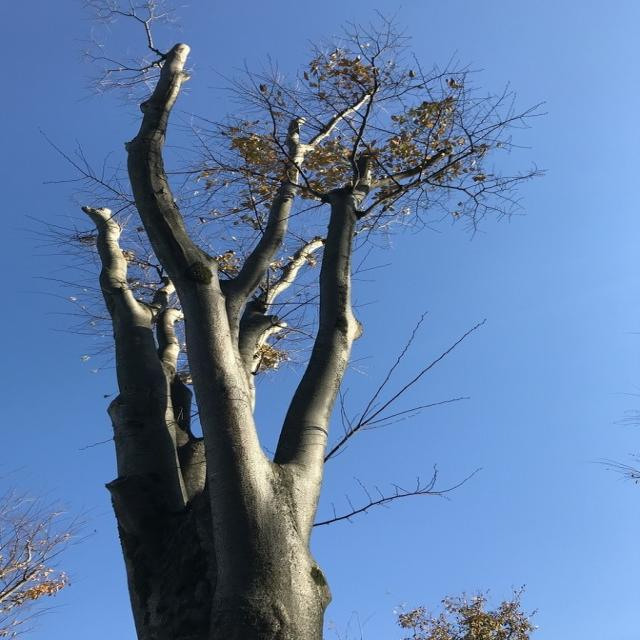maple: (14, 0, 552, 640)
